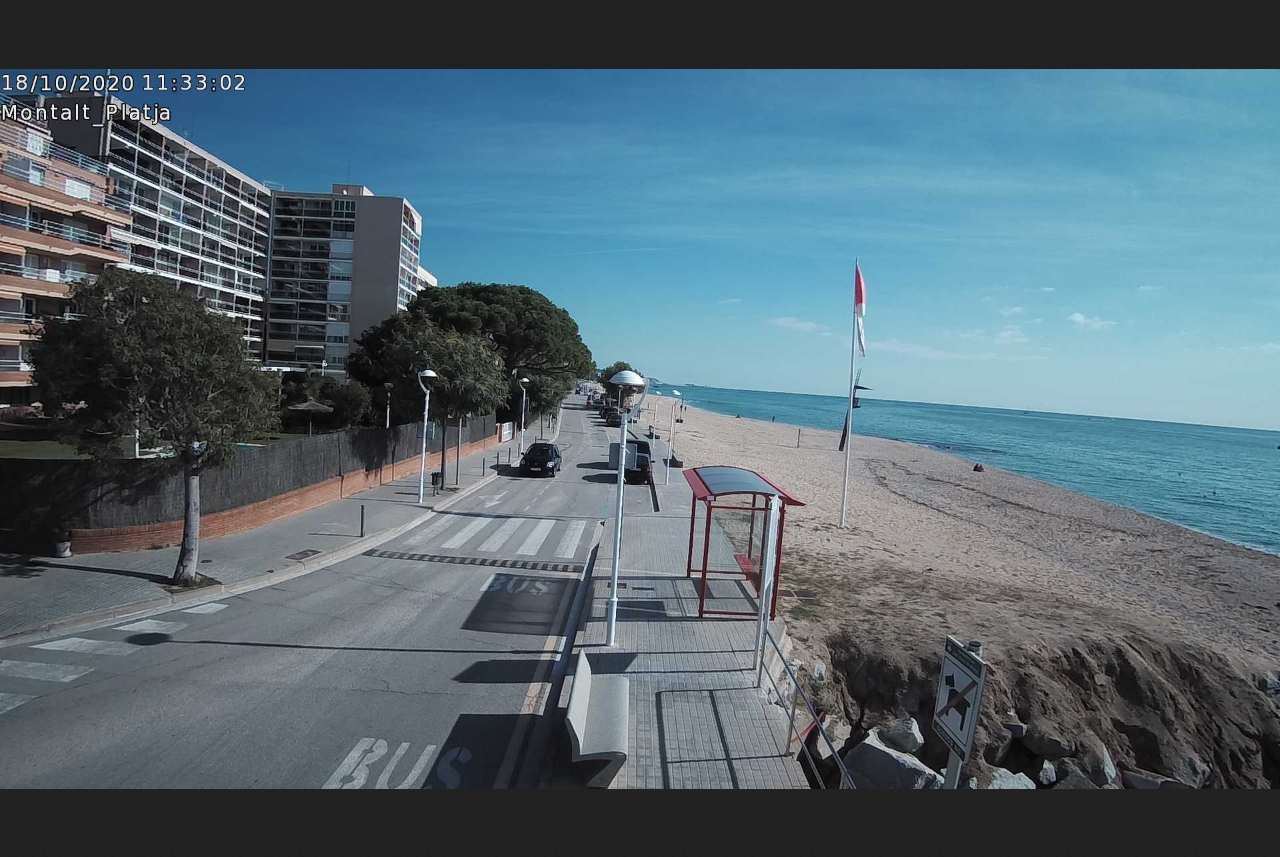no: (854, 263, 870, 359)
